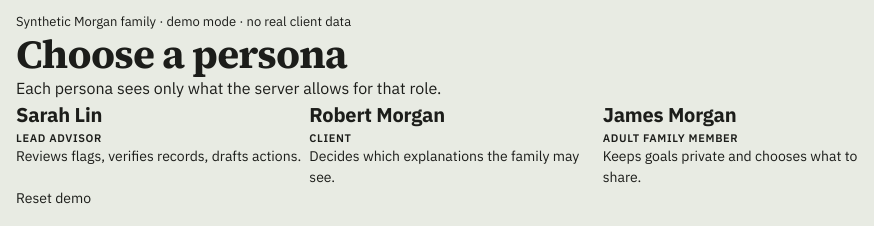
Test: PersonaPicker Reset demo with a stale stored token › clears the rejected session and retries once with a freshly minted Sarah token
Click the button "Reset demo": (54, 198) x1=16 y1=188 x2=91 y2=209
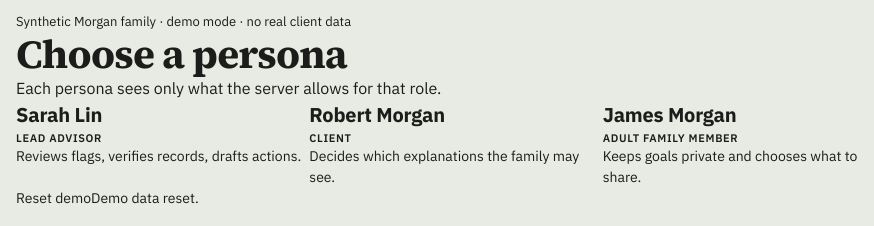
expect the text "Demo data reset." is shown: met, box x1=91 y1=188 x2=199 y2=209
